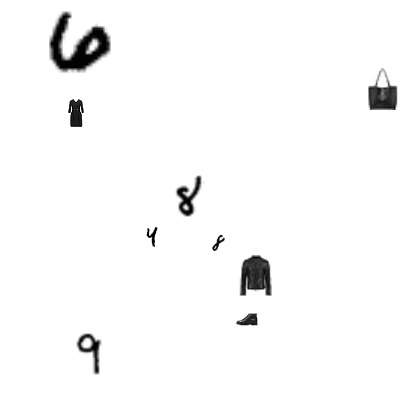4: (138, 221, 166, 249)
6: (35, 3, 119, 87)
8: (159, 168, 215, 224), (207, 232, 229, 254)
9: (63, 320, 119, 376)
Ankle_boot: (236, 308, 258, 330)
Bag: (361, 68, 403, 110)
Coat: (234, 255, 276, 297)
Dress: (62, 99, 90, 127)
